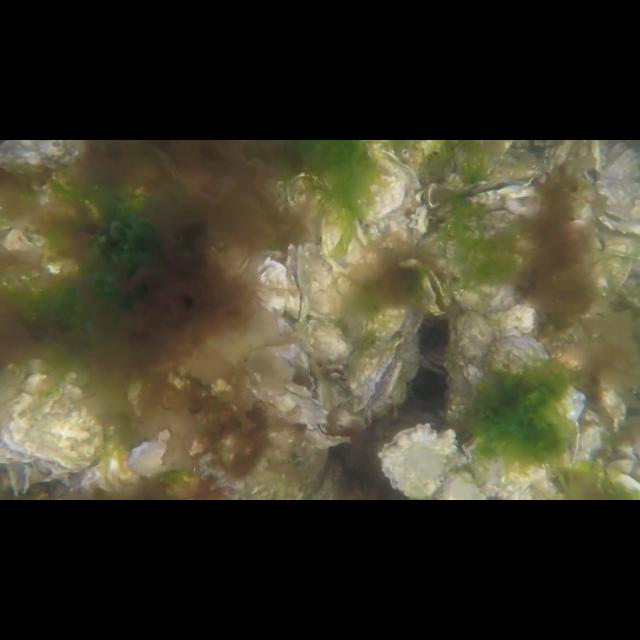Oyster-Closed: (461, 431, 549, 499), (245, 380, 328, 430), (349, 338, 405, 412), (308, 422, 352, 451)
Oyster-Indeterminate: (0, 371, 100, 471), (481, 334, 587, 426), (380, 424, 458, 500), (350, 140, 408, 226), (319, 206, 373, 288), (450, 311, 494, 403), (303, 316, 355, 374), (0, 140, 86, 174), (361, 299, 422, 346), (306, 242, 342, 320), (451, 273, 521, 309), (130, 429, 170, 478), (594, 253, 630, 299), (602, 233, 640, 260)
Oyster-Open: (592, 140, 640, 234), (458, 178, 542, 230), (252, 258, 290, 322), (285, 245, 309, 323), (278, 353, 316, 397), (422, 269, 448, 315), (578, 140, 604, 183)
